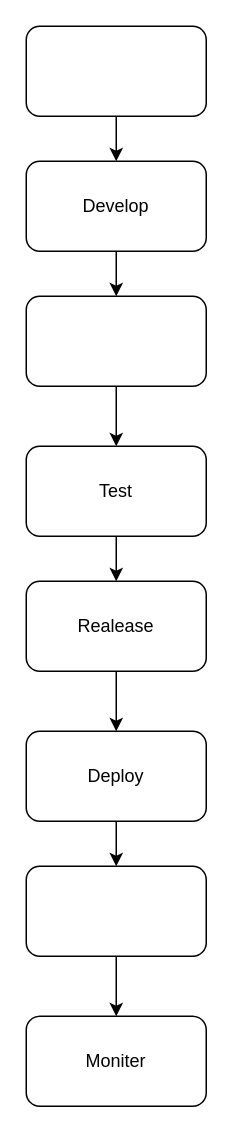
The diagram is 233 pixels wide and 1133 high, and some of its shapes have lost their labels. The centre of each missing label's shape, as x and y in pixels:
"Build" belongs at (115,340).
"Operate" belongs at (115,910).
"Plan" belongs at (115,70).
